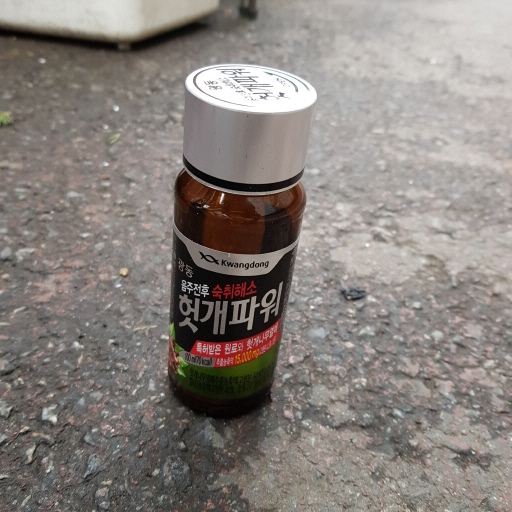Glass_3: (158, 62, 321, 417)
